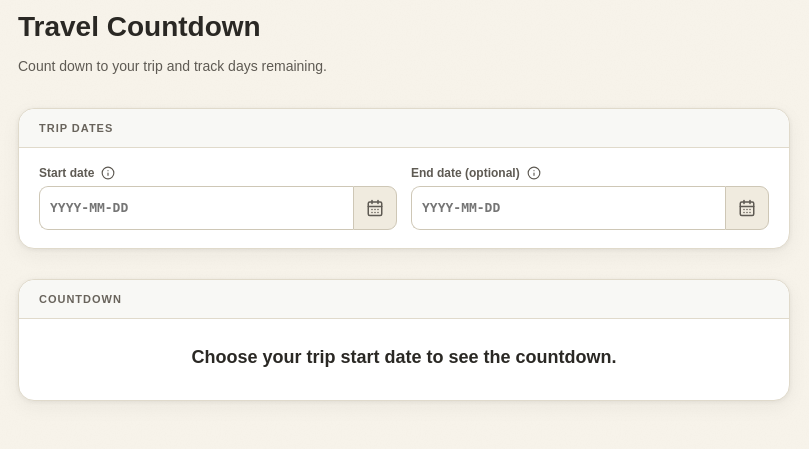
Test: Travel Countdown page › shows validation instead of an empty or stale countdown when only an end date is entered
In the field labelled "End date (optional)": x=568, y=208 [411, 186, 725, 230], type "2999-01-03"
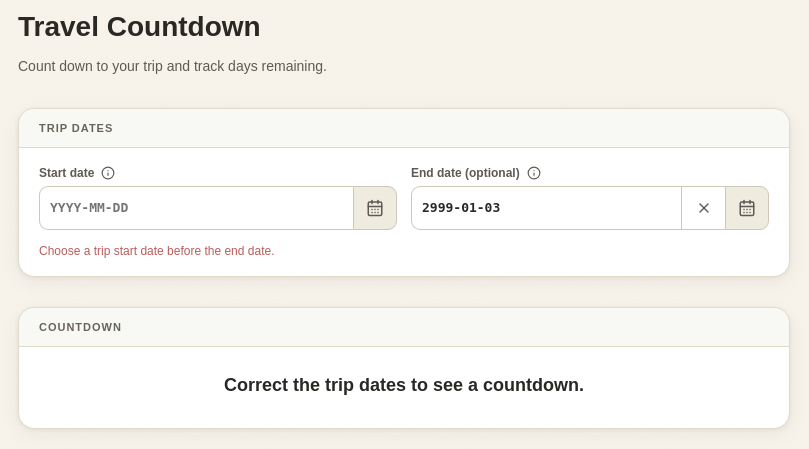
Now the message reads "Choose a trip start date before the end date.", box [39, 244, 274, 258]
Now the text "Correct the trip dates to see a countdown." is shown, box [224, 375, 584, 396]
Now the text "Choose your trip start date to see the countdown." is gone
